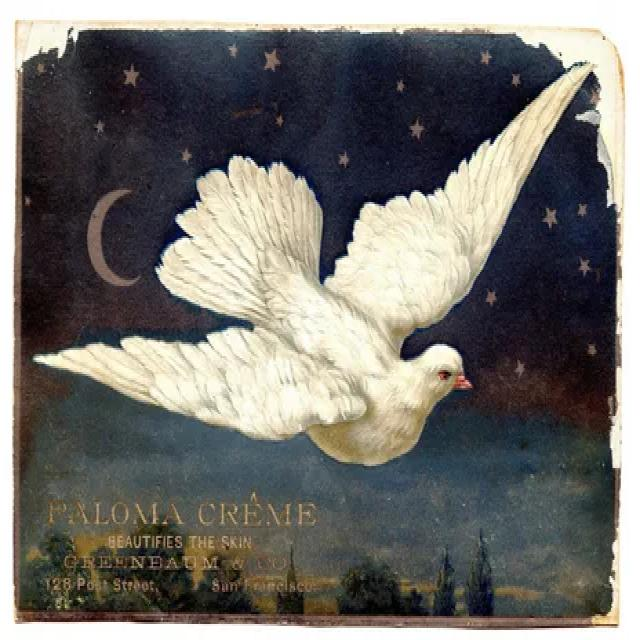pigeon: (31, 54, 592, 469)
